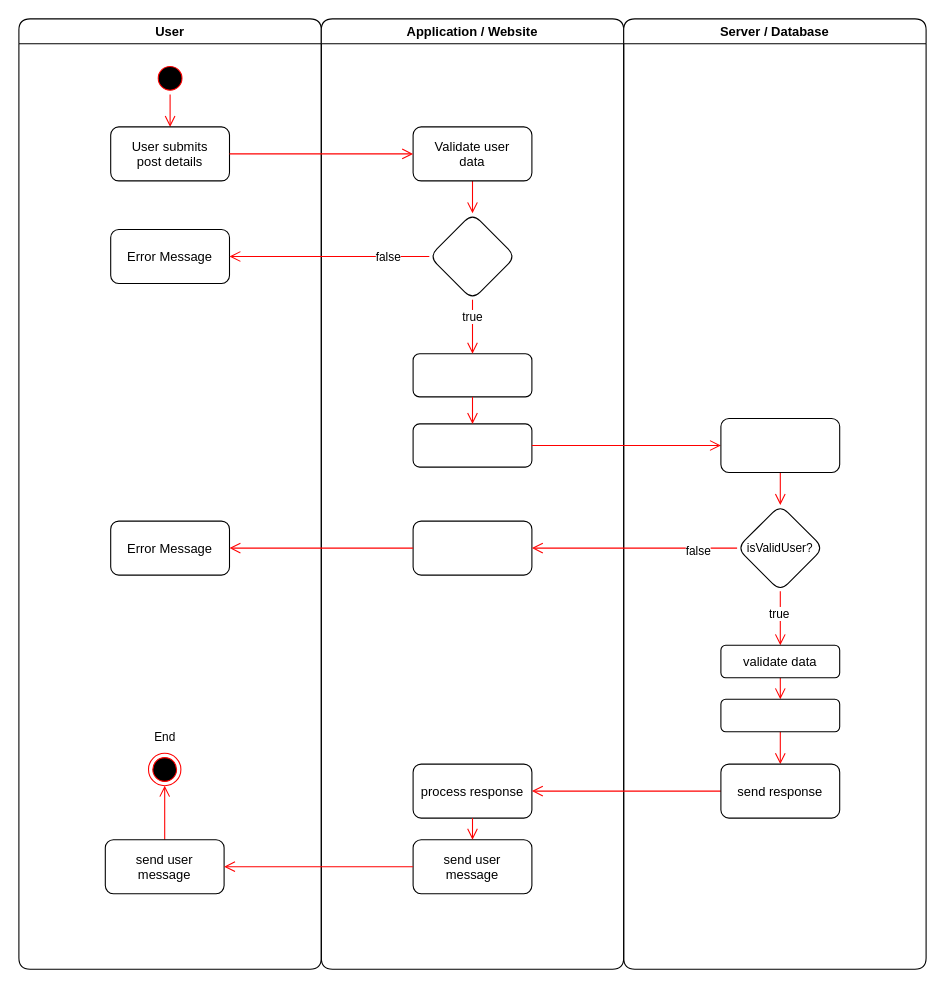
Image size: 945x988. Some labels were removed from this diagram. Here are the shapes that lost their labels. From the top down, the centre of each, then its label:
(x=472, y=256): isValid?
(x=472, y=375): prepare server request
(x=472, y=445): send request to server
(x=780, y=445): authenticate sender
(x=472, y=547): process error message
(x=780, y=715): process request
